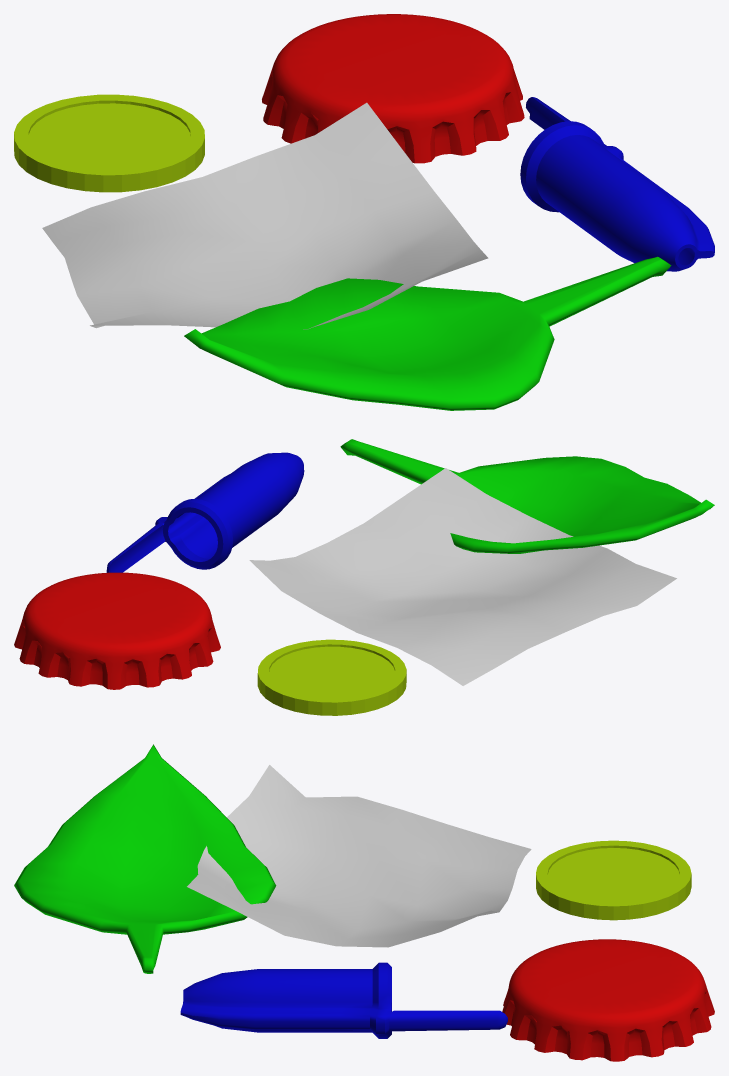
File: Propslvl2_textured.fbx
3 renders of one model, top to bottom at view 1: azimuth 30°, elevation 25°; view 2: azimuth 150°, elevation 25°; view 3: azimuth 270°, elevation 25°, orthographic. The views are drawn at different scales.
Visible parts, largest first — view 1: JaraPetal, Leaf, BottleCap, PenCap, Euro; view 2: JaraPetal, BottleCap, Leaf, PenCap, Euro; view 3: JaraPetal, Leaf, BottleCap, PenCap, Euro.
Boxes of the visible parts, left/top/right/bottom form: JaraPetal: left=42, top=102, right=488, bottom=329; Leaf: left=184, top=256, right=671, bottom=410; BottleCap: left=262, top=14, right=524, bottom=163; PenCap: left=520, top=97, right=714, bottom=271; Euro: left=14, top=94, right=204, bottom=192; JaraPetal: left=249, top=468, right=676, bottom=685; BottleCap: left=14, top=572, right=220, bottom=689; Leaf: left=340, top=439, right=714, bottom=553; PenCap: left=106, top=452, right=304, bottom=572; Euro: left=257, top=639, right=406, bottom=715; JaraPetal: left=187, top=765, right=531, bottom=947; Leaf: left=14, top=744, right=276, bottom=973; BottleCap: left=502, top=939, right=714, bottom=1061; PenCap: left=180, top=962, right=507, bottom=1038; Euro: left=536, top=840, right=691, bottom=920.
Bounding box in the file's own units: 12.43 × 2.05 × 14.82.
